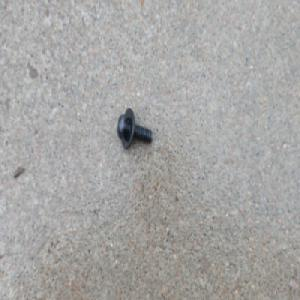BoltWasher: (116, 107, 152, 150)
